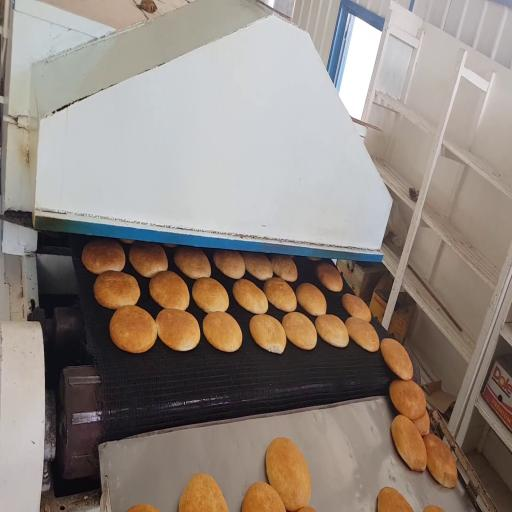bread: (266, 438, 311, 511), (110, 306, 157, 353), (391, 415, 426, 471), (156, 309, 200, 351), (423, 434, 457, 488), (179, 474, 227, 511), (94, 271, 140, 309), (203, 312, 242, 352), (149, 271, 189, 310), (82, 239, 125, 274), (390, 380, 426, 420), (250, 315, 286, 353), (129, 243, 168, 277), (381, 339, 413, 380), (282, 312, 317, 349), (192, 278, 229, 312), (242, 482, 285, 511), (233, 279, 267, 314), (346, 317, 379, 352), (174, 247, 210, 279), (264, 277, 296, 312), (315, 315, 349, 347), (212, 249, 246, 280), (296, 283, 326, 316), (342, 293, 371, 322), (378, 487, 413, 511), (243, 253, 273, 280), (316, 263, 342, 292), (271, 255, 297, 282), (413, 411, 430, 436), (127, 504, 159, 511), (424, 505, 444, 511), (120, 239, 134, 244), (299, 507, 316, 511), (163, 243, 176, 248), (307, 257, 321, 261)
